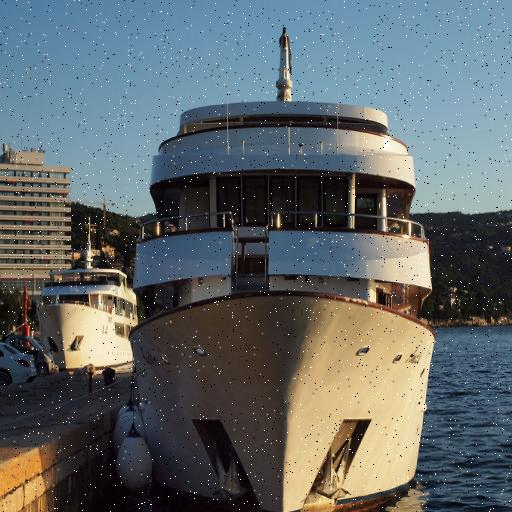cruises: (128, 16, 429, 512)
